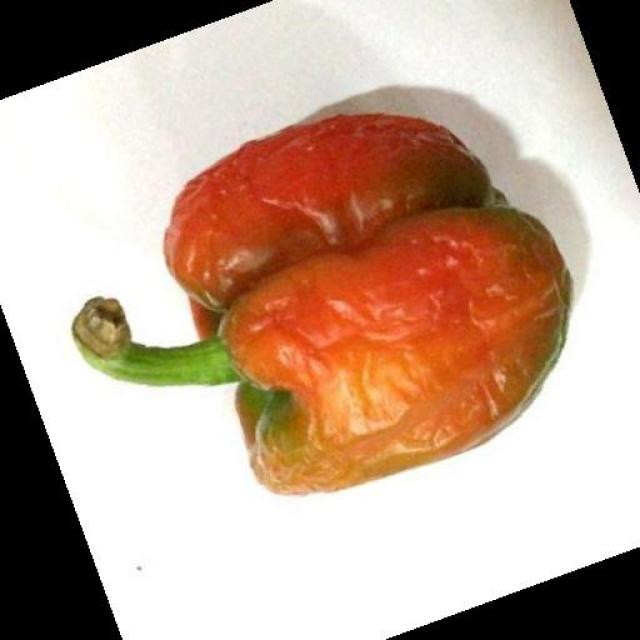Stale_Capsicum: (104, 92, 577, 490)
